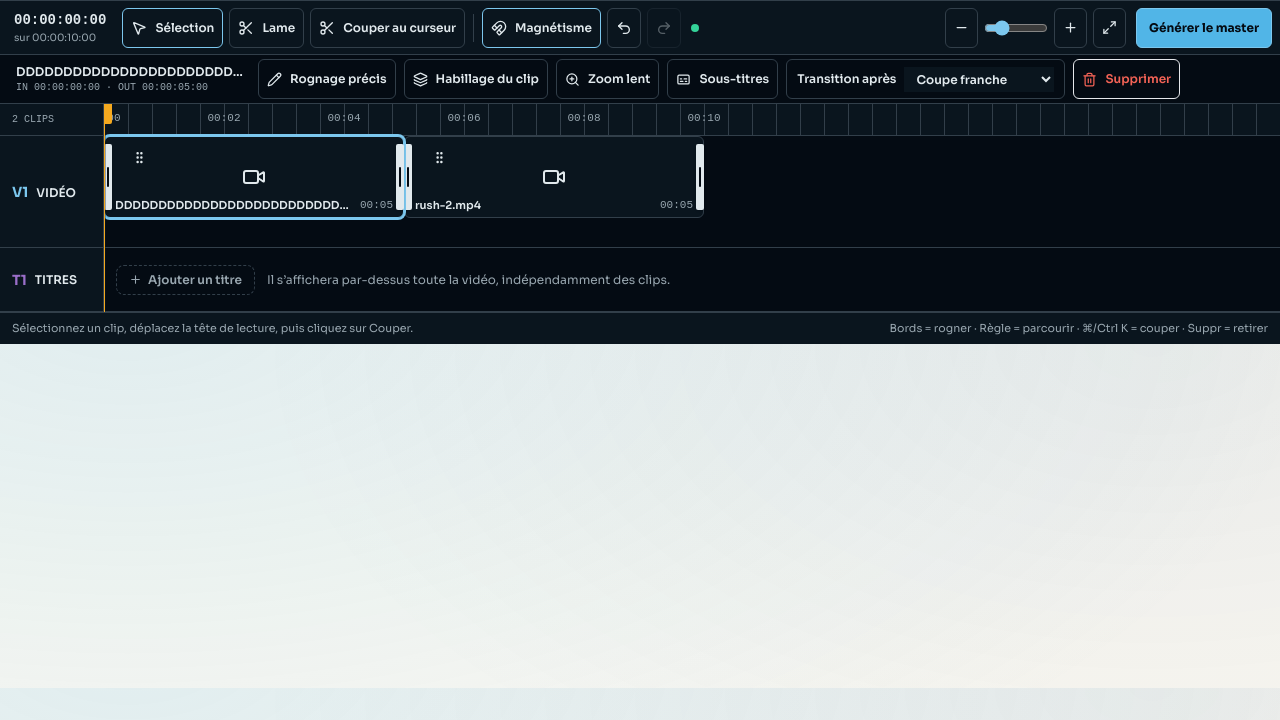
la pile d’annulation survit à ce qui n’est pas une coupe › ne demande qu’une annulation pour toute une salve de frappes
Step 1. Click the button named "Annuler" → (624, 28), box x1=607 y1=8 x2=641 y2=48
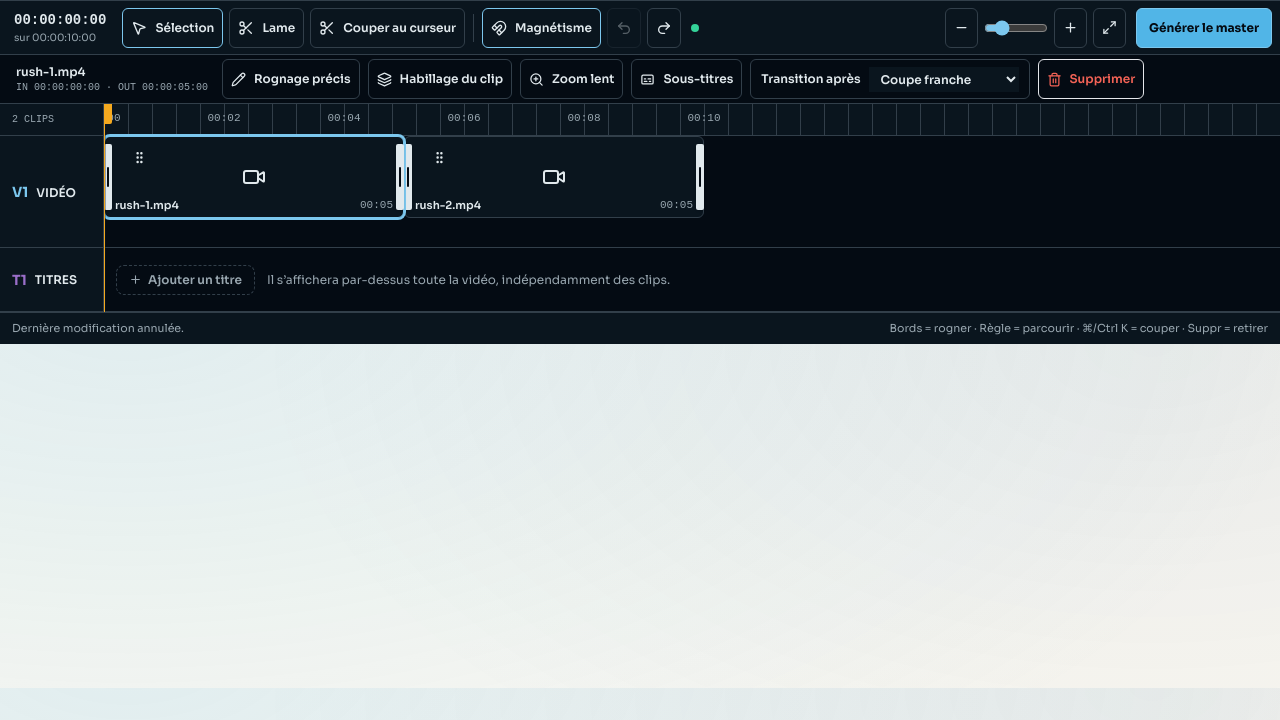
Expected: the text "rush-1.mp4" is shown, x1=16 y1=64 x2=86 y2=78
Expected: the button named "Annuler" is disabled, x1=607 y1=8 x2=641 y2=48
